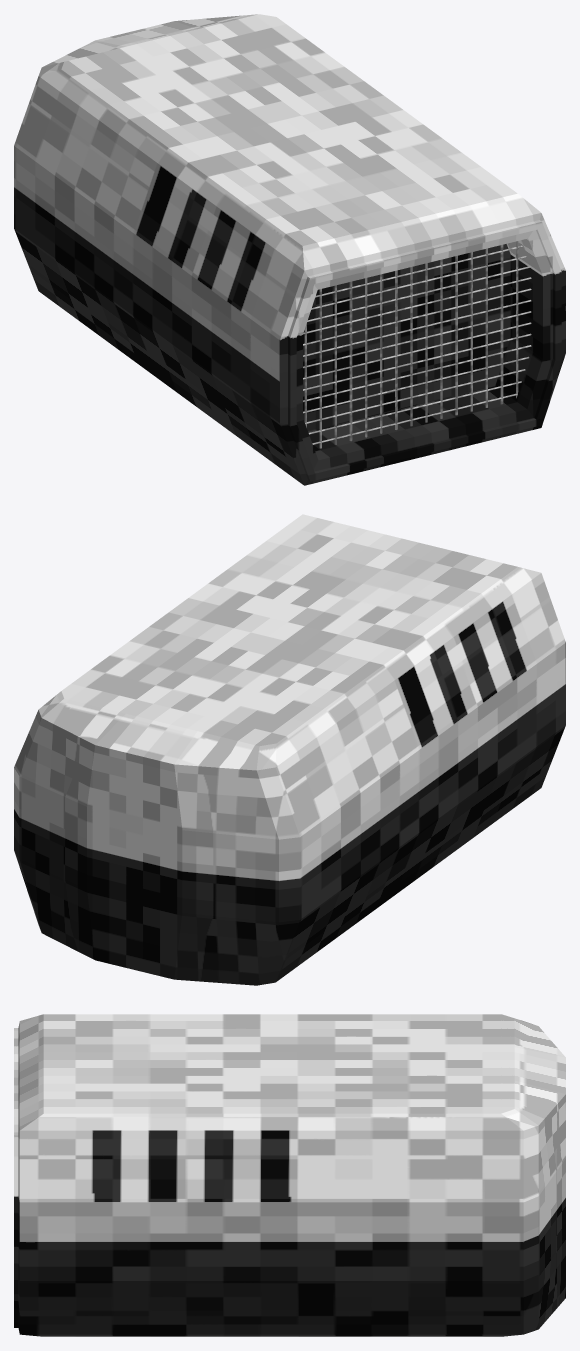
File: dogcage.fbx
3 renders of one model, top to bottom at view 1: azimuth 30°, elevation 25°; view 2: azimuth 150°, elevation 25°; view 3: azimuth 270°, elevation 25°, orthographic. The views are drawn at different scales.
Parts seen in each view (by area): view 1: cage, Plane, grid; view 2: cage; view 3: cage.
Part boxes in pixels (left/top/right/bottom): cage: left=14, top=14, right=565, bottom=485; Plane: left=303, top=244, right=510, bottom=431; grid: left=303, top=241, right=531, bottom=448; cage: left=14, top=514, right=565, bottom=985; cage: left=14, top=1014, right=565, bottom=1336.
Bounding box in the file's own units: 241 × 190 × 426.
3 materials, 3 textured.
